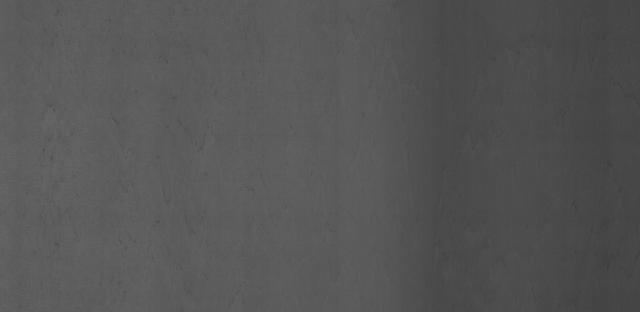silk_spot: (54, 51, 226, 228)
